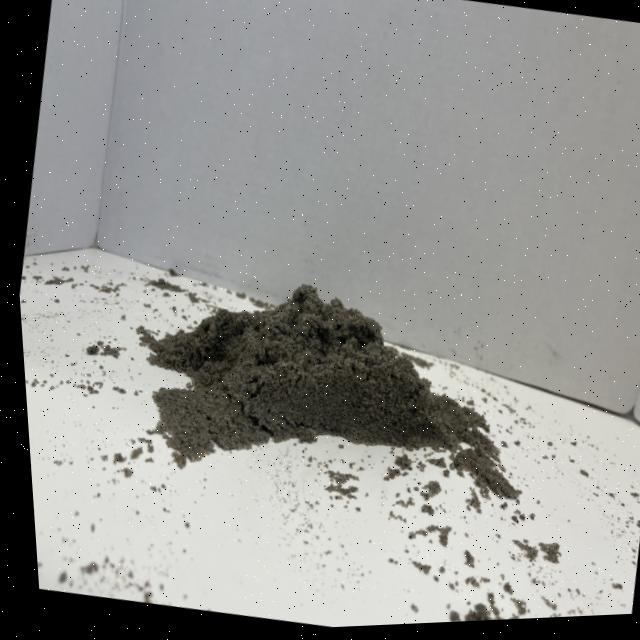sand: (90, 205, 588, 570)
